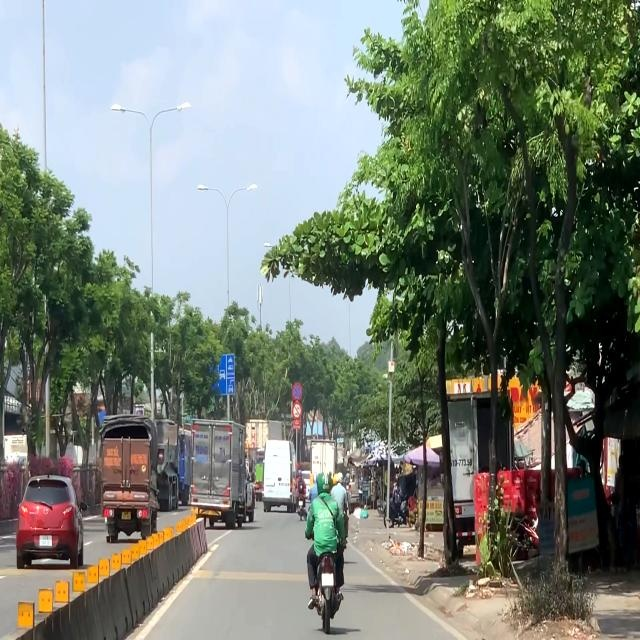bien_cam: (292, 382, 302, 401)
